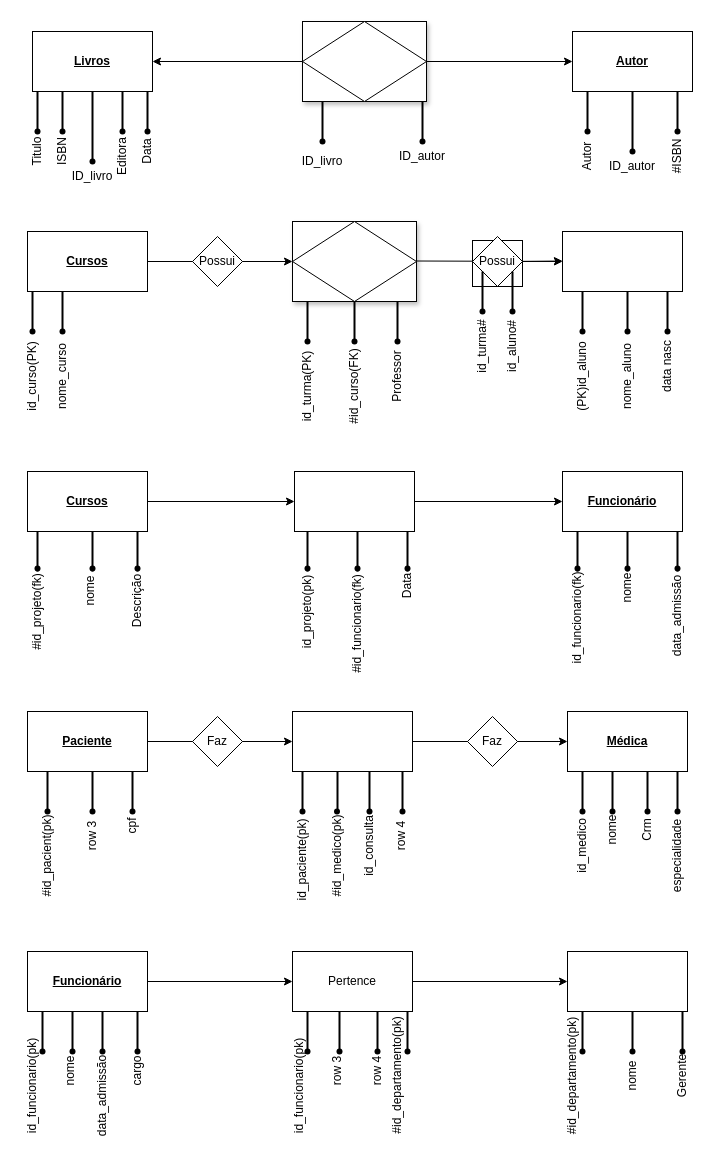
The diagram is 714 pixels wide and 1164 high, and some of its shapes have lost their labels. Here are the shapes that lost their labels. From the top down, the centre of each, then its label:
[364,61]: Biblioteca
[354,261]: Turmas
[622,261]: Alunos
[354,501]: Realizado
[352,741]: Consulta
[627,981]: Departamento
